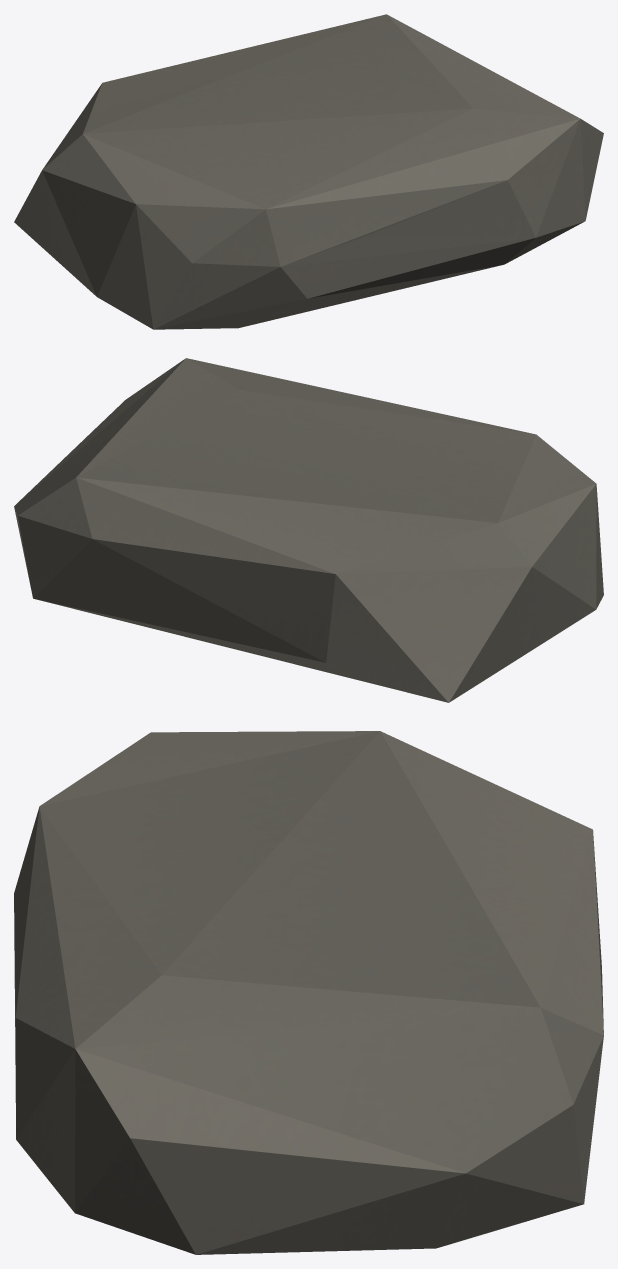
The model's file is Stair_4B.fbx.
The picture shows the model from 3 angles, top to bottom: view 1: azimuth 30°, elevation 25°; view 2: azimuth 150°, elevation 25°; view 3: azimuth 270°, elevation 25°; orthographic projection. The views are drawn at different scales.
Parts seen in each view (by area): view 1: Group22898; view 2: Group22898; view 3: Group22898.
Part boxes in pixels (x1=…): Group22898: x1=14, y1=14, x2=603, y2=329; Group22898: x1=14, y1=358, x2=603, y2=702; Group22898: x1=14, y1=731, x2=603, y2=1254.
Bounding box in the file's own units: 146 × 40.31 × 100.
Materials: 1 (1 with a texture image).
